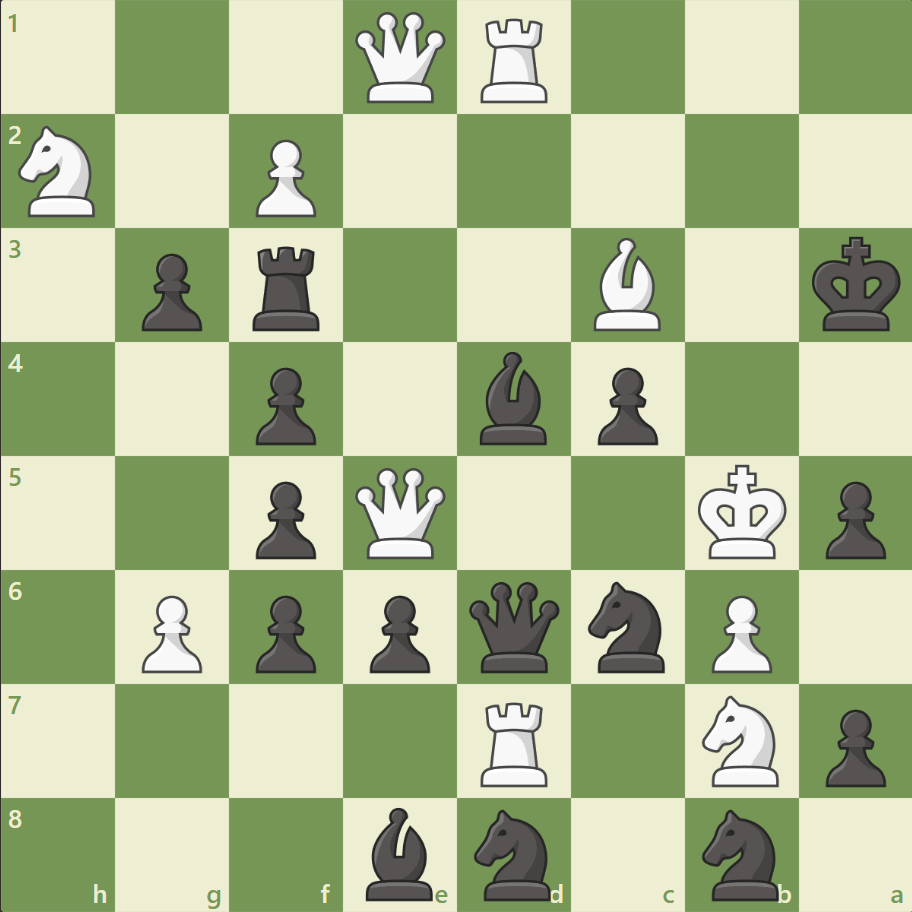B: (585, 233, 669, 336)
K: (692, 458, 792, 566)
N: (692, 688, 789, 791), (11, 121, 108, 223)
P: (701, 586, 776, 677), (133, 586, 208, 677), (247, 132, 322, 223)
Q: (351, 463, 450, 562), (351, 9, 450, 108)
R: (473, 693, 556, 790), (473, 12, 556, 109)
b: (358, 801, 442, 904), (471, 347, 555, 449)
k: (806, 231, 906, 339)
n: (692, 802, 789, 904), (465, 802, 562, 904), (579, 575, 676, 677)
p: (247, 586, 322, 677), (247, 473, 322, 564), (247, 359, 322, 450), (133, 246, 208, 337), (815, 700, 889, 791), (361, 586, 435, 677), (815, 473, 889, 564), (588, 359, 662, 450)
q: (464, 576, 563, 676)
r: (246, 239, 329, 336)
